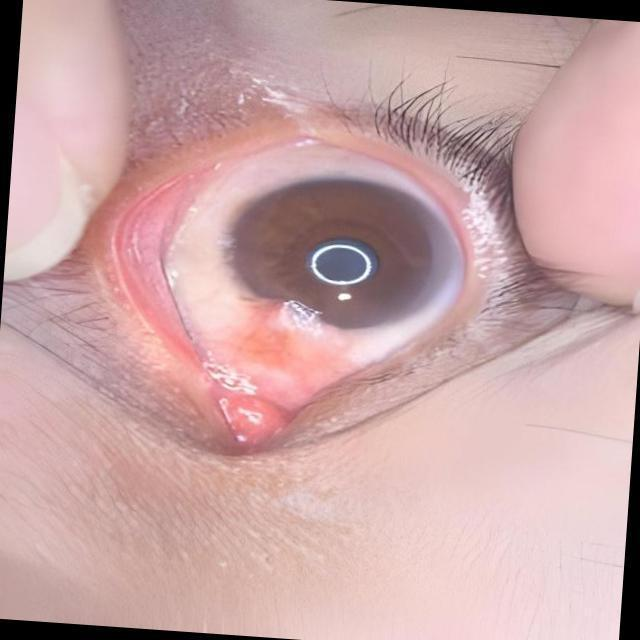Pterygium: (176, 270, 388, 427)
